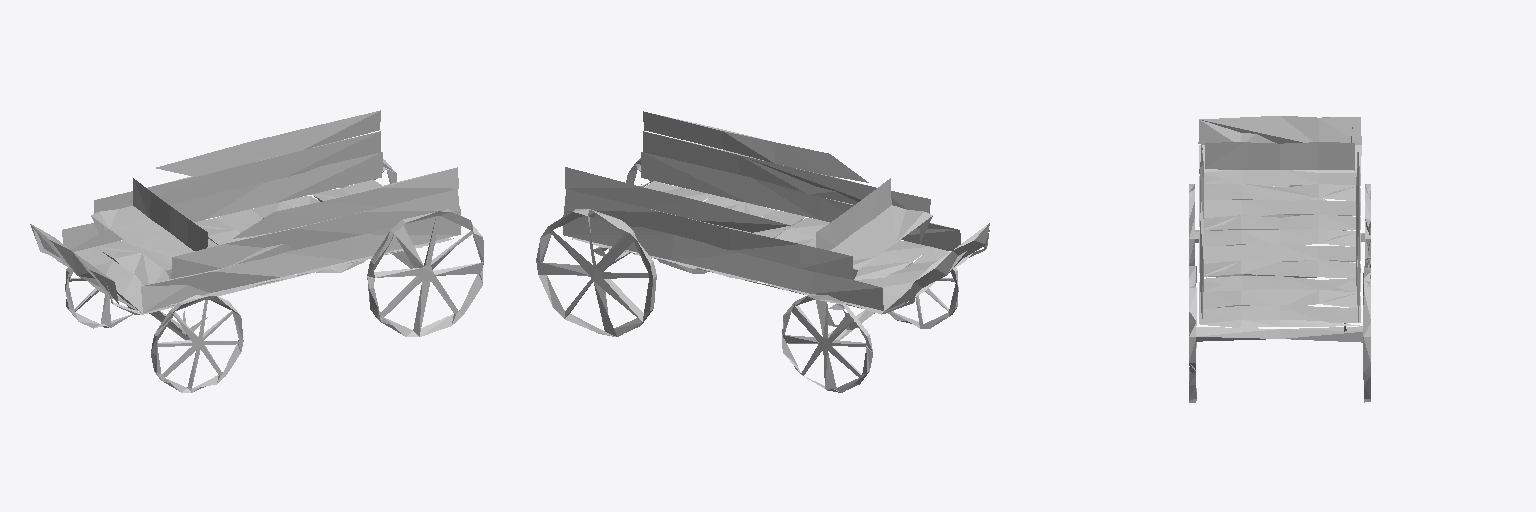
File: Cart_LOD2.obj
3 renders of one model, left to right at view 1: azimuth 30°, elevation 25°; view 2: azimuth 150°, elevation 25°; view 3: azimuth 270°, elevation 25°, orthographic.
Visible parts, largest first — view 1: Cart, Cart_RearWheel, Cart_FrontWheel; view 2: Cart, Cart_RearWheel, Cart_FrontWheel; view 3: Cart, Cart_RearWheel, Cart_FrontWheel.
Part boxes in pixels (x1,y1,x2,y2): Cart: (30,110,460,314); Cart_RearWheel: (316,159,483,336); Cart_FrontWheel: (65,268,243,392); Cart: (563,111,989,314); Cart_RearWheel: (536,158,740,336); Cart_FrontWheel: (782,241,958,392); Cart: (1198,116,1361,331); Cart_RearWheel: (1189,266,1370,402); Cart_FrontWheel: (1189,184,1370,267).
Size of the model in its own units: 4.03 by 1.62 by 1.71.